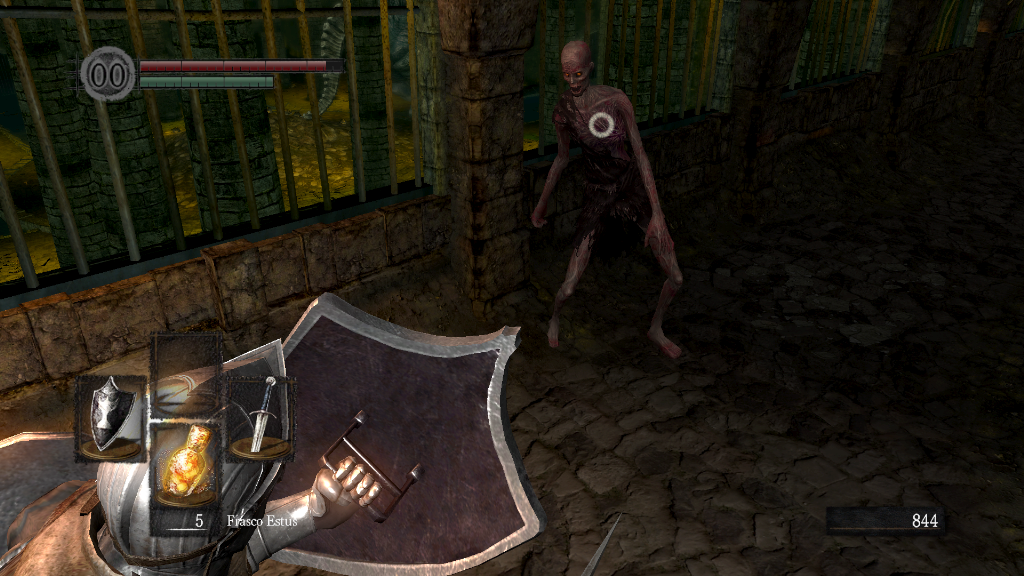health: (138, 58, 343, 71)
hollow: (530, 40, 685, 363)
humanity: (80, 45, 136, 102)
player: (1, 292, 624, 576)
souls: (825, 506, 945, 536)
stamina: (138, 74, 274, 88)
